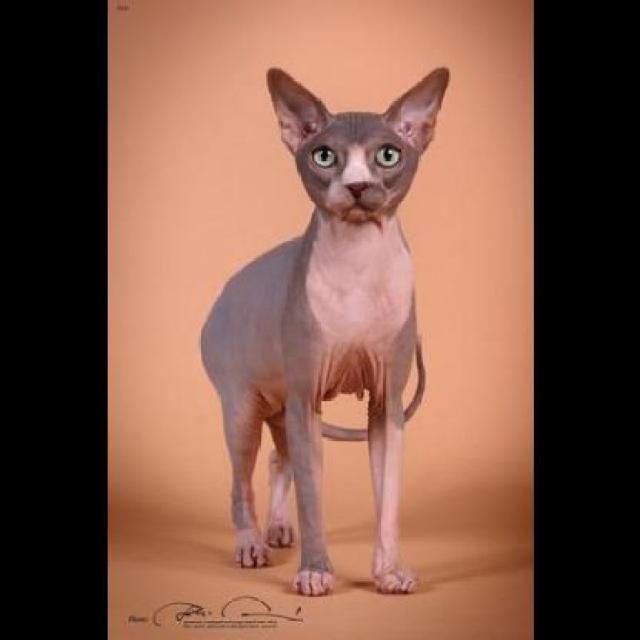unauthorized: (197, 63, 449, 595)
